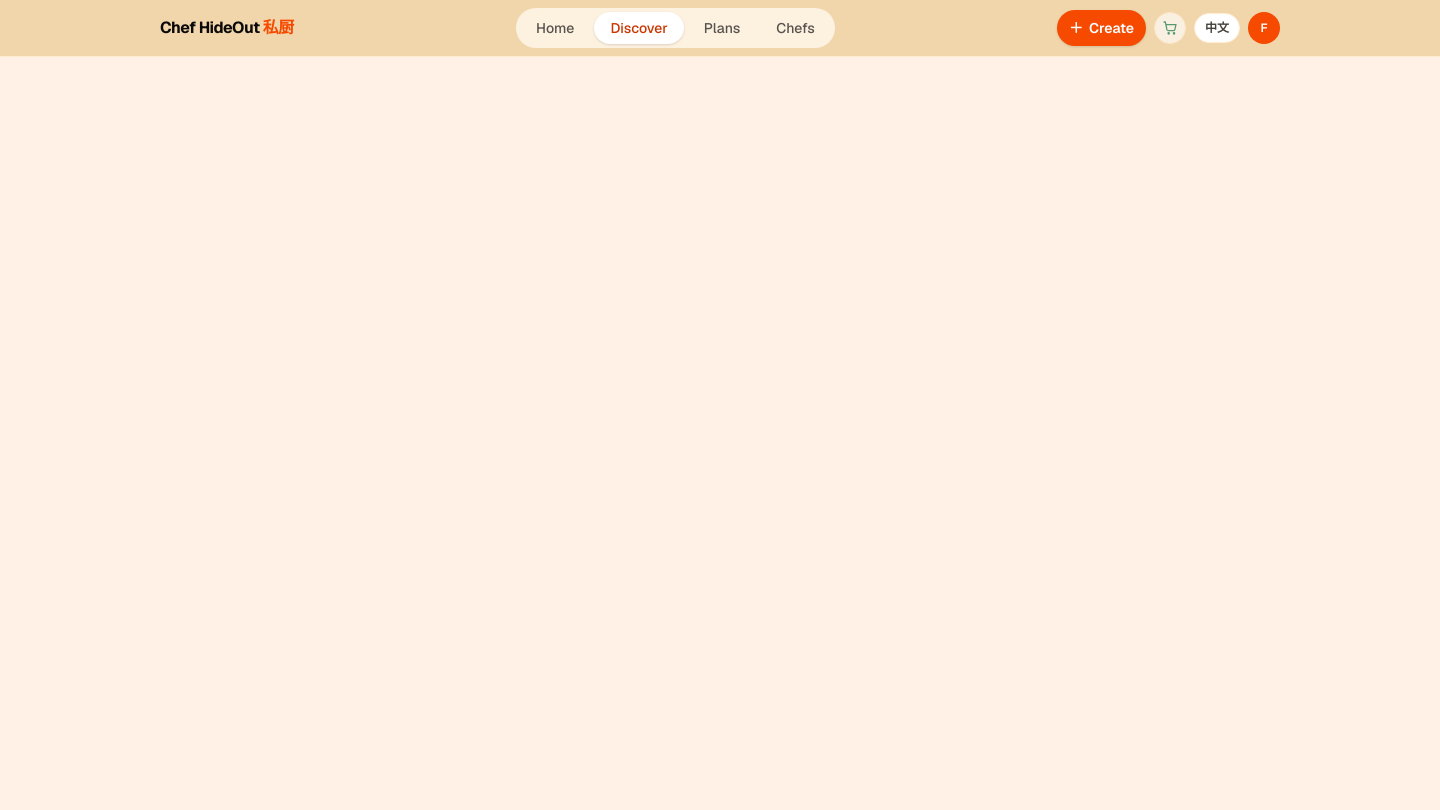
Test: NavBar profile menu › closes the profile menu with Escape and an outside click
Step 1. Click the button named "Profile" → (1264, 28), box [1248,12,1280,44]
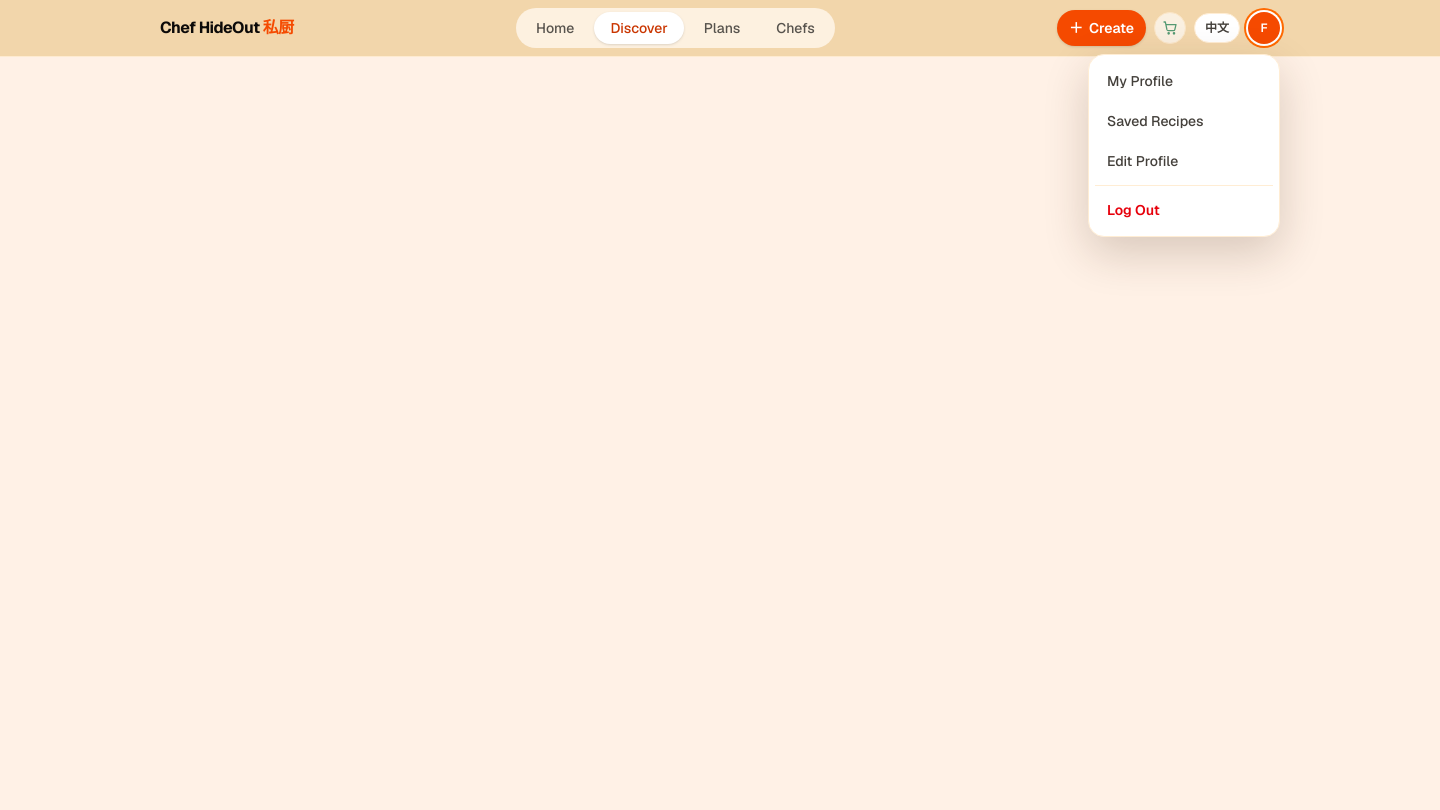
Step 2. Press Escape
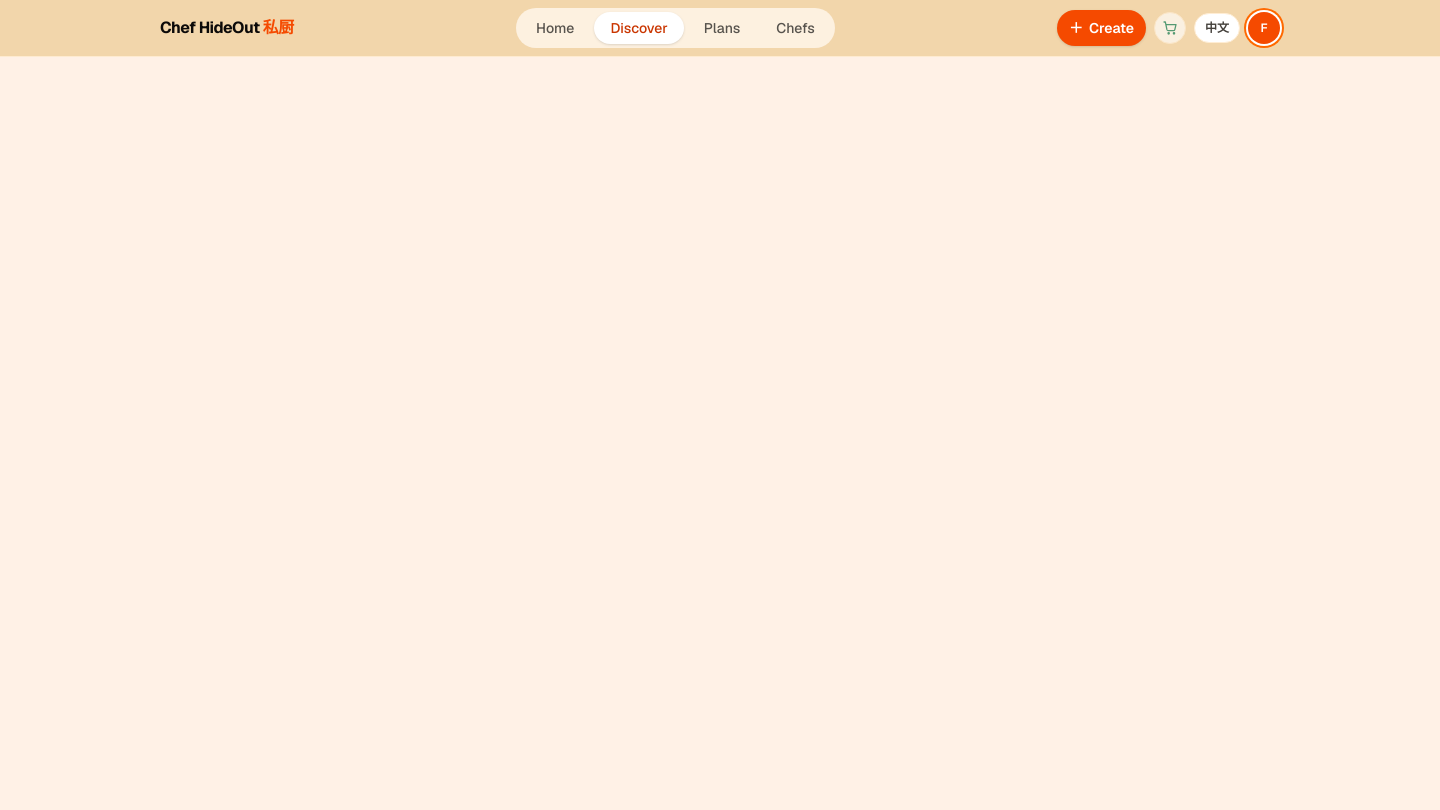
Expected: the menu is gone
Step 3. Click the button named "Profile" → (1264, 28), box [1248,12,1280,44]
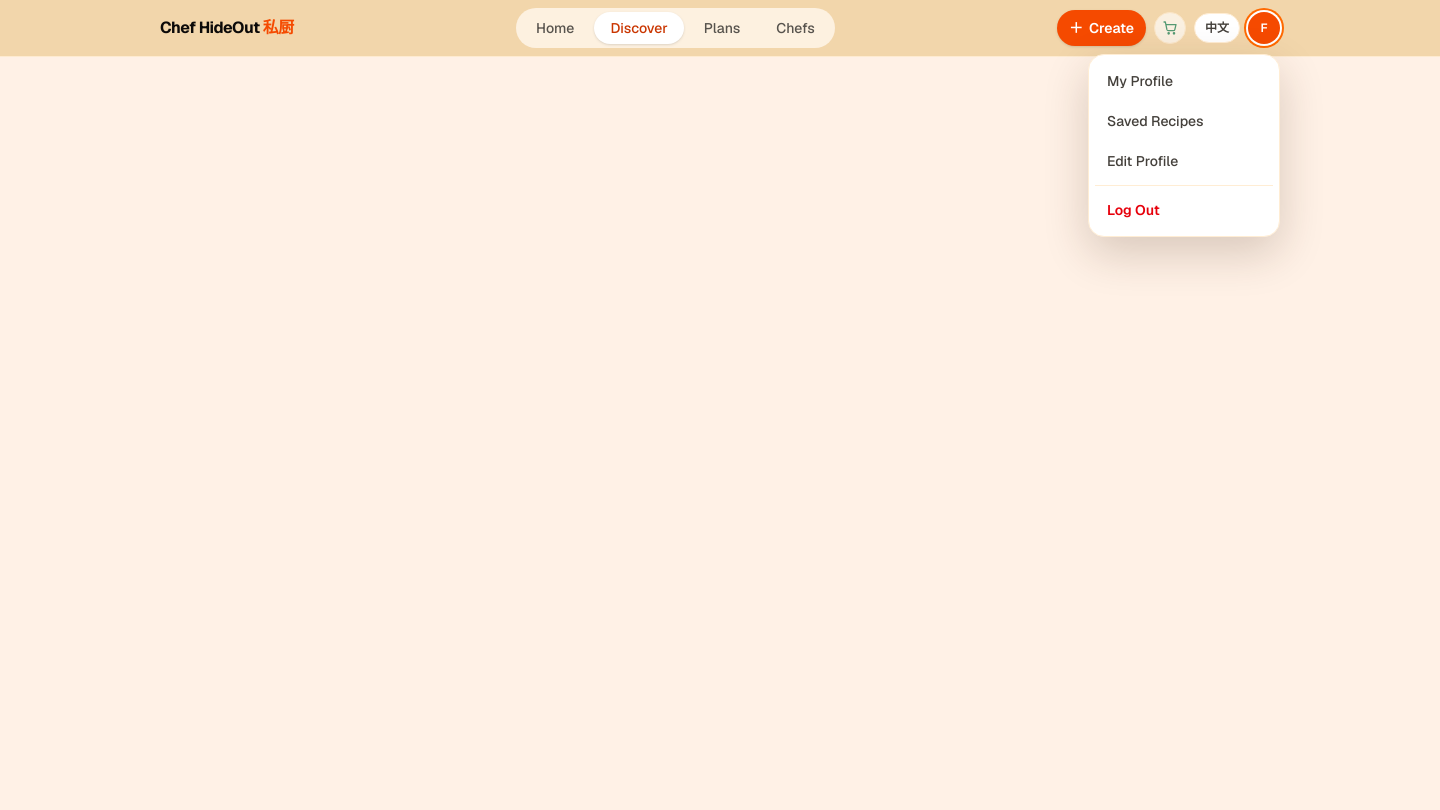
Step 4. Click the element that starts with "Chef HideOut" → (720, 405), box [0,0,1439,809]
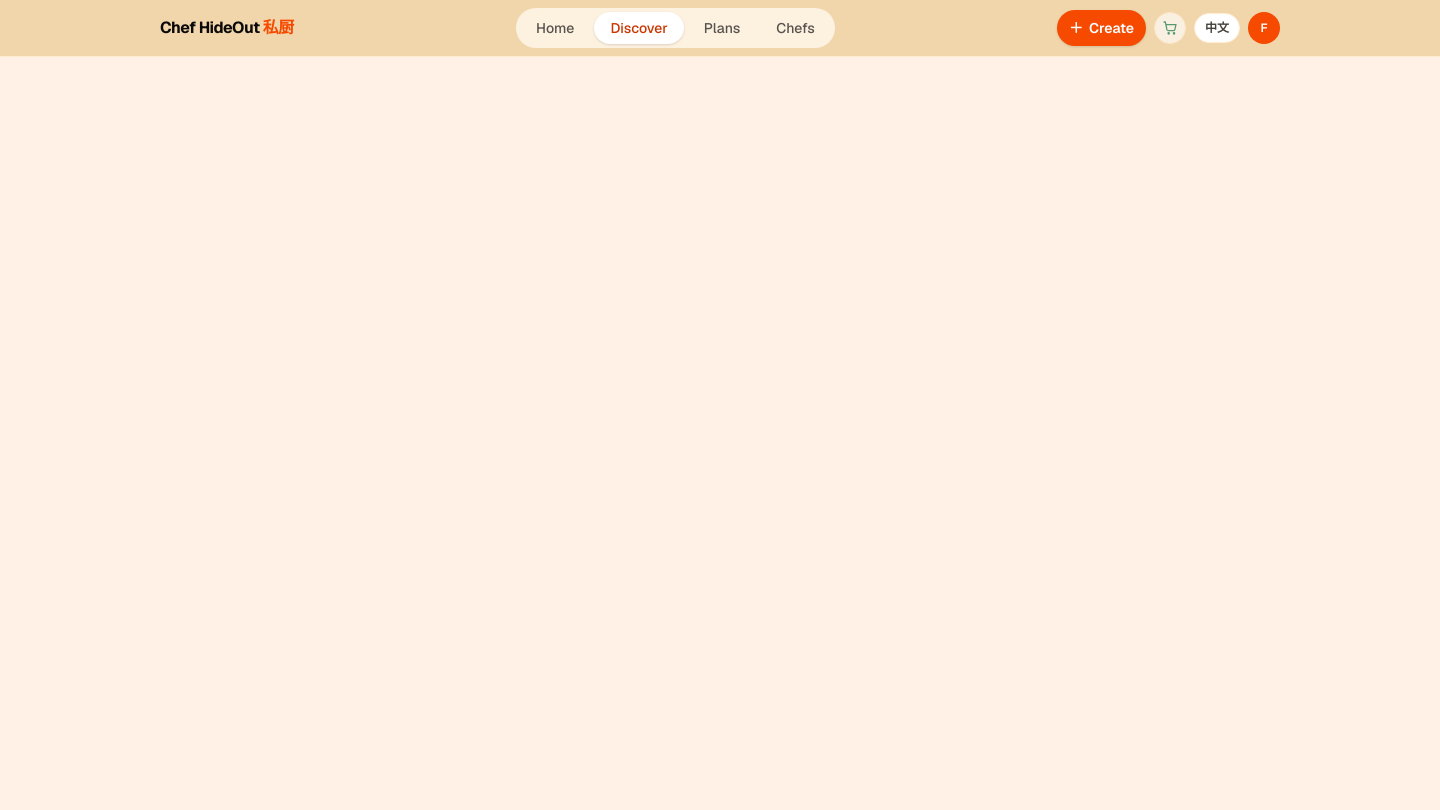
Expected: the menu is gone
